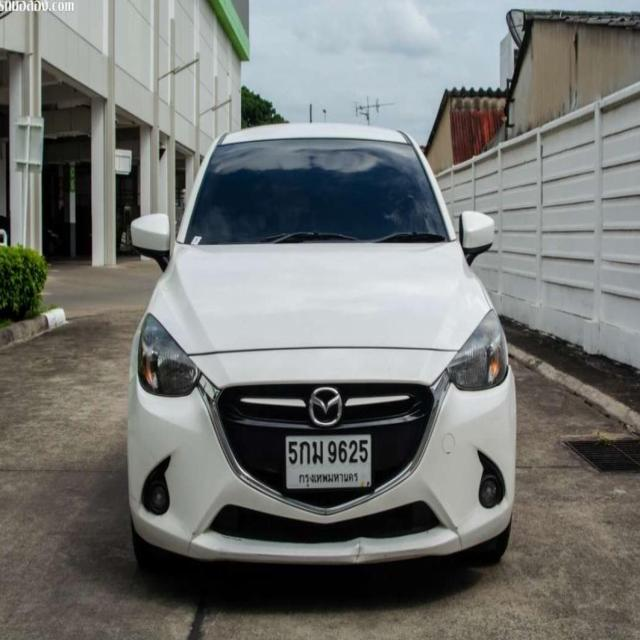license_plate: (280, 430, 376, 495)
